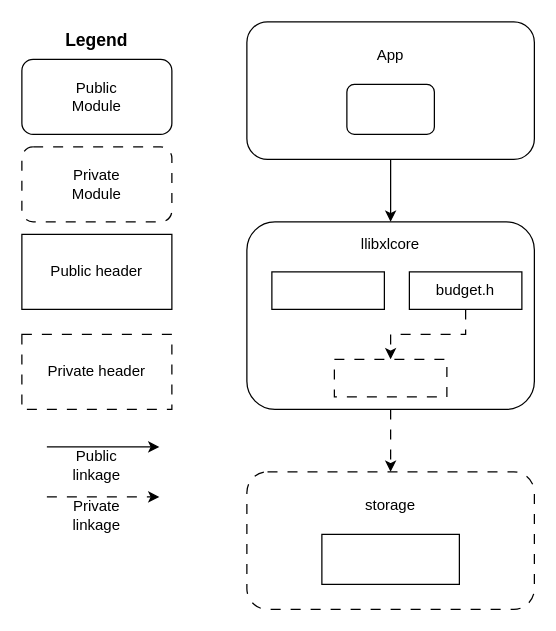
The diagram is 556 pixels wide and 631 high, and some of its shapes have lost their labels. Each missing label, with the centre of its shape:
"domain.h" goes at pixel 327 290.
"repl" goes at pixel 390 108.
"storage.h" goes at pixel 390 377.
"storage_sqlite.h" goes at pixel 390 558.
